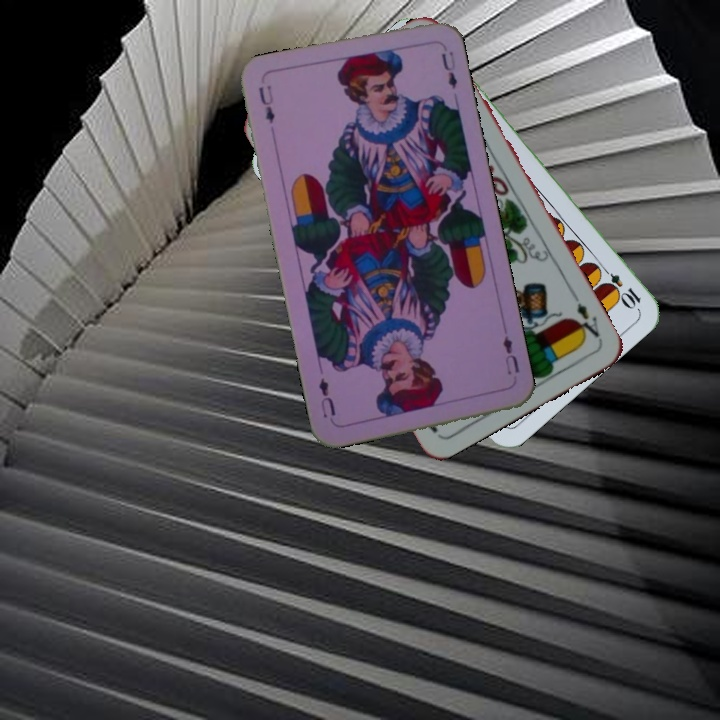E10: (595, 261, 644, 311)
EA: (568, 289, 602, 342)
EU: (499, 331, 522, 378), (254, 81, 278, 126)
